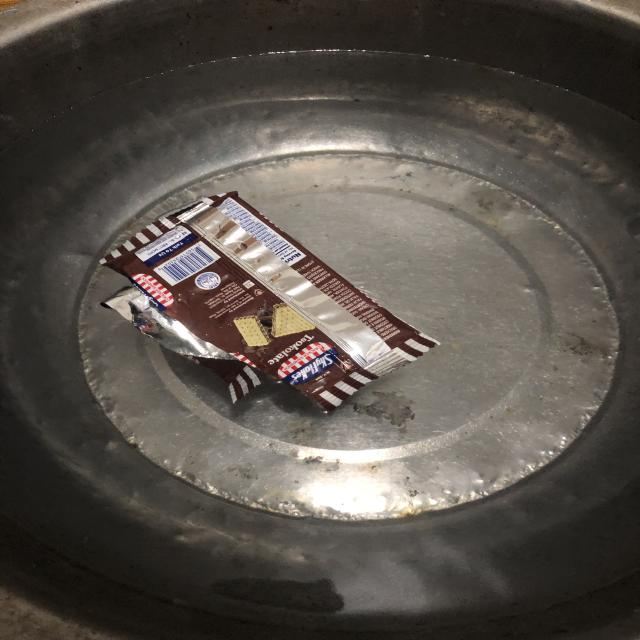Plastic Wrapper: (59, 170, 470, 438)
